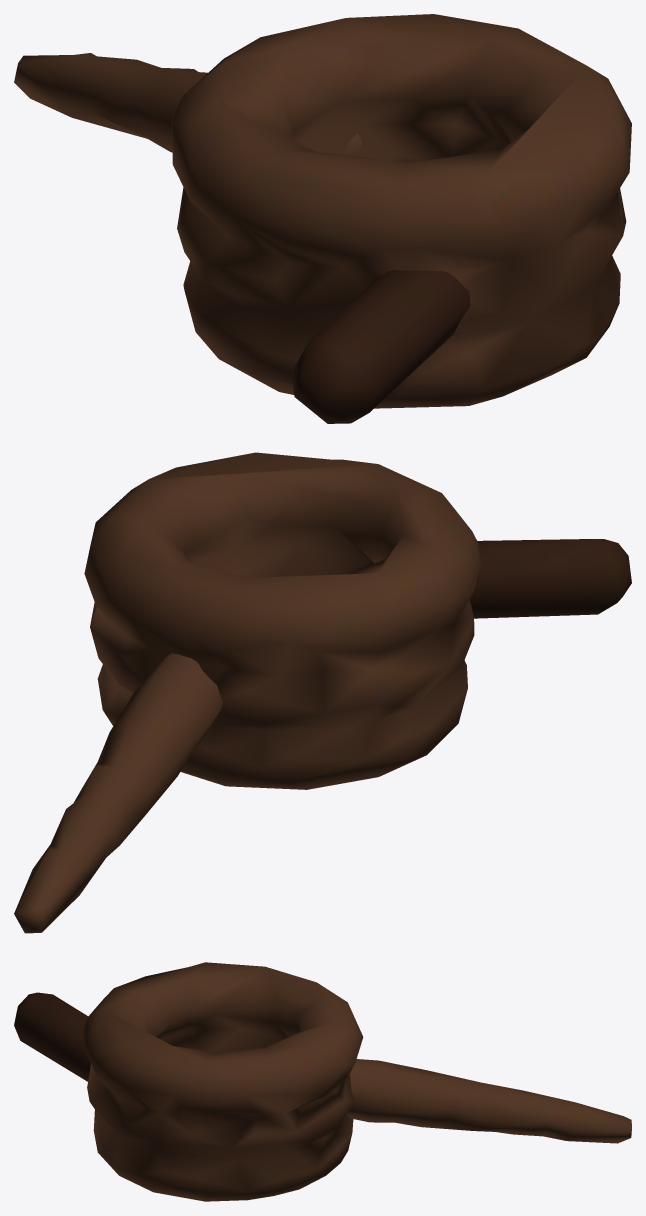
The model's file is treasure-hunter-whip.glb.
3 renders of one model, top to bottom at view 1: azimuth 30°, elevation 25°; view 2: azimuth 150°, elevation 25°; view 3: azimuth 270°, elevation 25°, orthographic. The views are drawn at different scales.
Parts seen in each view (by area): view 1: whip-coil; view 2: whip-coil; view 3: whip-coil.
Boxes of the visible parts, x1,y1,x2,y2 form: whip-coil: (14,14,631,423); whip-coil: (14,452,631,933); whip-coil: (14,962,631,1201).
Size of the model in its own units: 0.1486 by 0.0758 by 0.289.
1 material, 1 textured.
